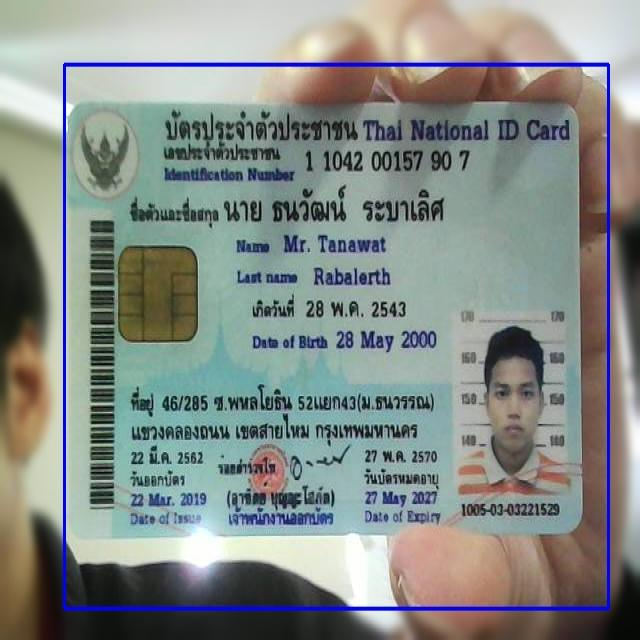Address_th: (123, 373, 442, 449)
Date_of_Birth: (332, 325, 441, 358)
Date_of_Expiry: (361, 488, 441, 510)
Date_of_Issue: (124, 490, 210, 512)
First_Name: (280, 227, 388, 259)
ID_Number: (301, 142, 474, 176)
Image: (455, 309, 571, 497)
Last_Name: (310, 262, 396, 290)
Thai_Name: (221, 182, 449, 232)
